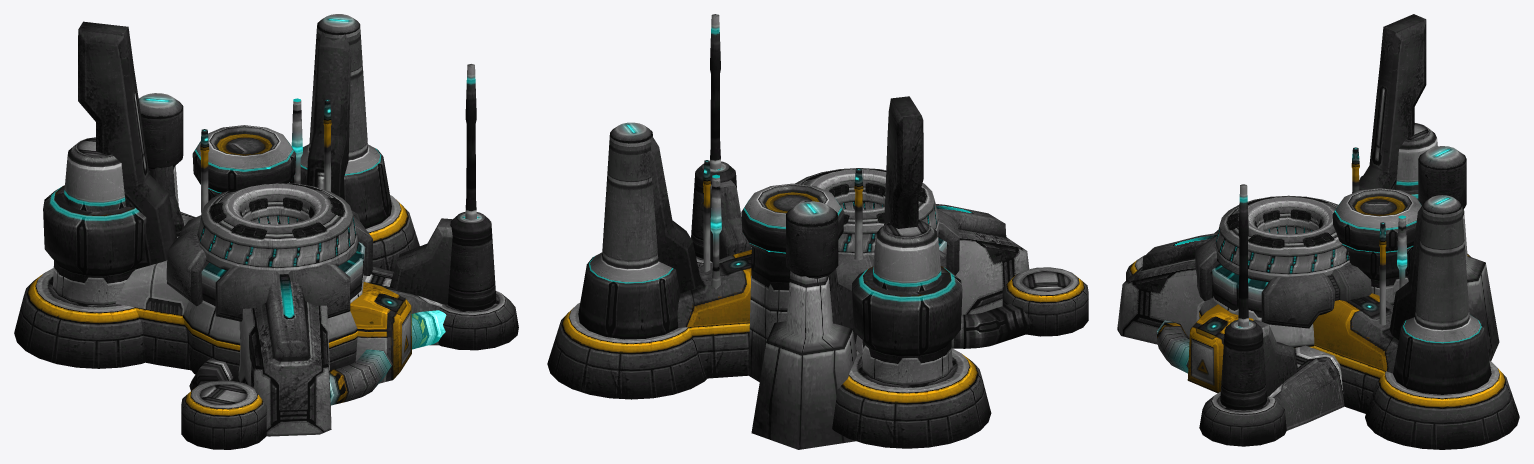
The model's file is Armory_Umojan.glb.
The picture shows the model from 3 angles, left to right: view 1: azimuth 30°, elevation 25°; view 2: azimuth 150°, elevation 25°; view 3: azimuth 270°, elevation 25°; orthographic projection. The views are drawn at different scales.
Parts seen in each view (by area): view 1: Mesh; view 2: Mesh; view 3: Mesh.
Part boxes in pixels (left/top/right/bottom): Mesh: left=14, top=14, right=518, bottom=449; Mesh: left=547, top=14, right=1088, bottom=449; Mesh: left=1117, top=14, right=1519, bottom=449.
Bounding box in the file's own units: 3.09 × 2.34 × 2.9.
1 material, 1 textured.
